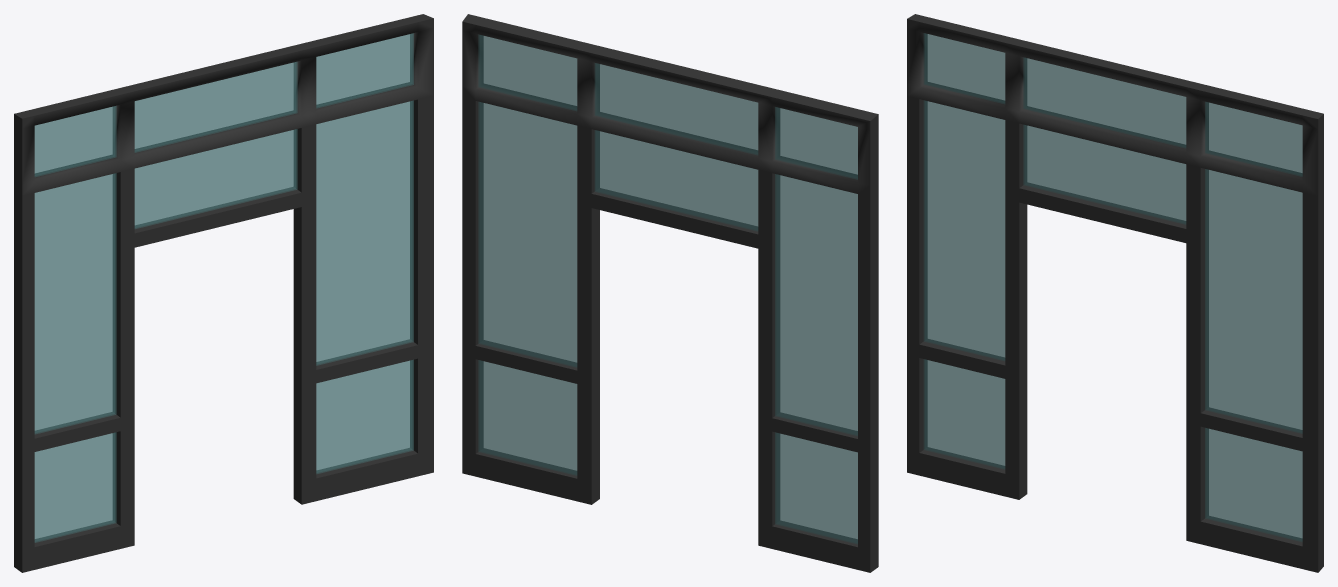
The model's file is Muur glass deuropening.fbx.
3 views of the same model, side by side, from view 1: azimuth 30°, elevation 25°; view 2: azimuth 150°, elevation 25°; view 3: azimuth 330°, elevation 25° (orthographic).
Visible parts, largest first — view 1: polySurface22; view 2: polySurface22; view 3: polySurface22.
Part boxes in pixels (left/top/right/bottom): polySurface22: left=14, top=14, right=433, bottom=572; polySurface22: left=462, top=14, right=878, bottom=572; polySurface22: left=907, top=14, right=1323, bottom=572.
Size of the model in its own units: 21.44 by 22.6 by 0.7357.
